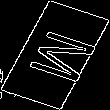M_SE: (13, 24, 97, 86)
